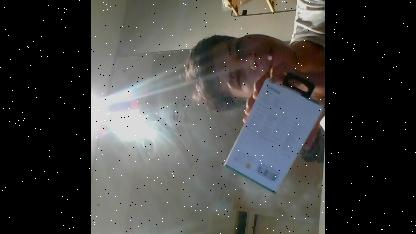Others: (222, 74, 324, 194)
